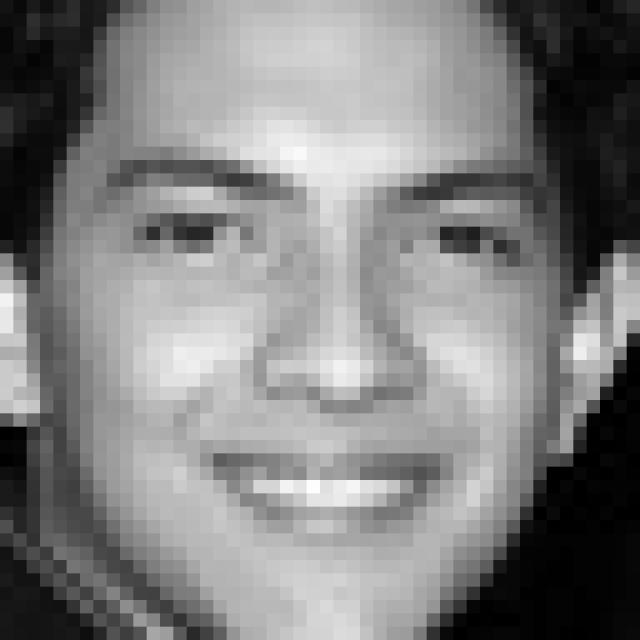happy: (91, 142, 554, 560)
